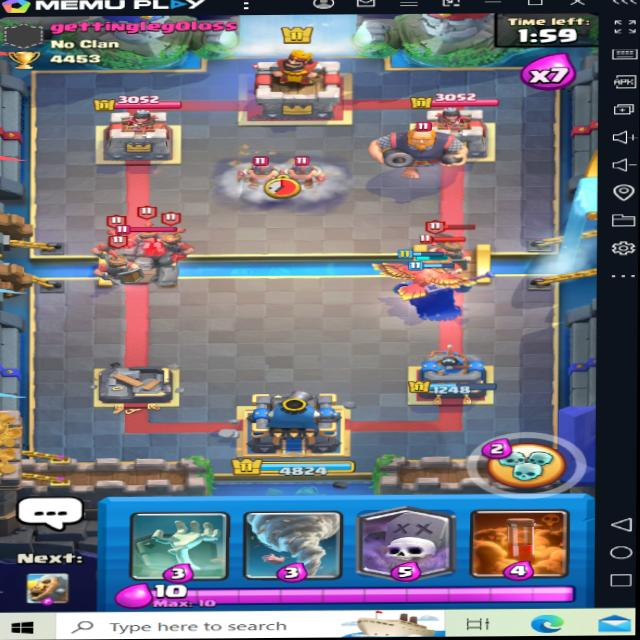electro-barbarians: (235, 148, 287, 191), (280, 153, 327, 191)
golem: (104, 220, 205, 281)
royal-giant: (367, 119, 472, 175)
royal-recruits: (150, 211, 205, 260), (421, 227, 474, 277), (96, 242, 147, 288), (92, 214, 139, 263), (123, 220, 172, 252)
